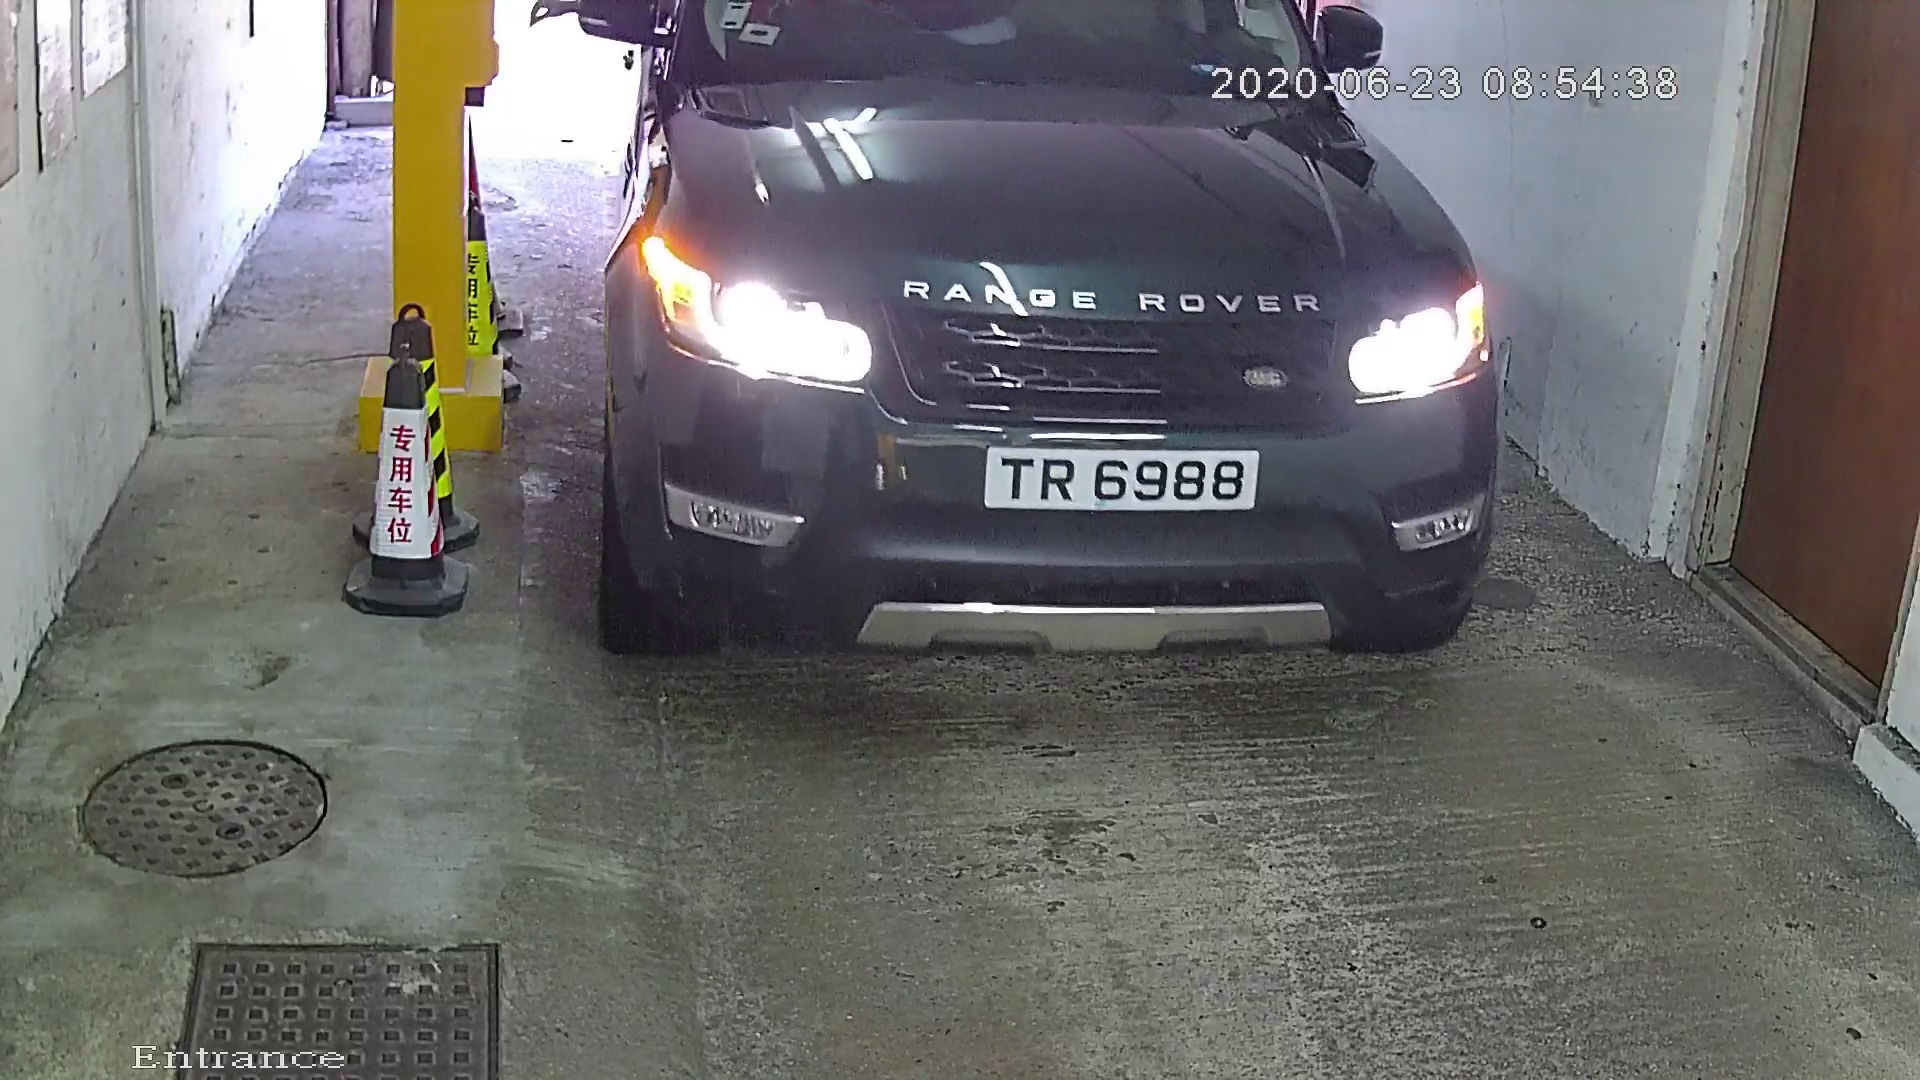privatecar: (531, 3, 1578, 705)
